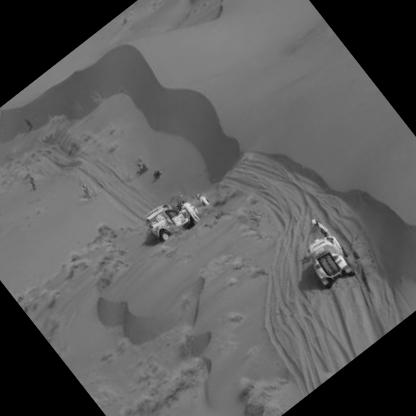car: (273, 209, 375, 313), (128, 180, 206, 257)
